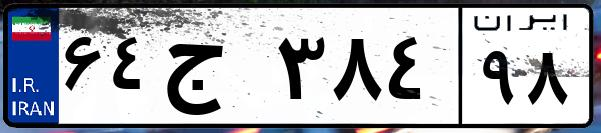3: (270, 28, 330, 110)
4: (385, 28, 445, 110), (110, 28, 158, 98)
6: (57, 26, 110, 100)
8: (330, 28, 385, 110), (525, 38, 570, 115)
9: (475, 38, 525, 113)
ج: (158, 20, 270, 120)
